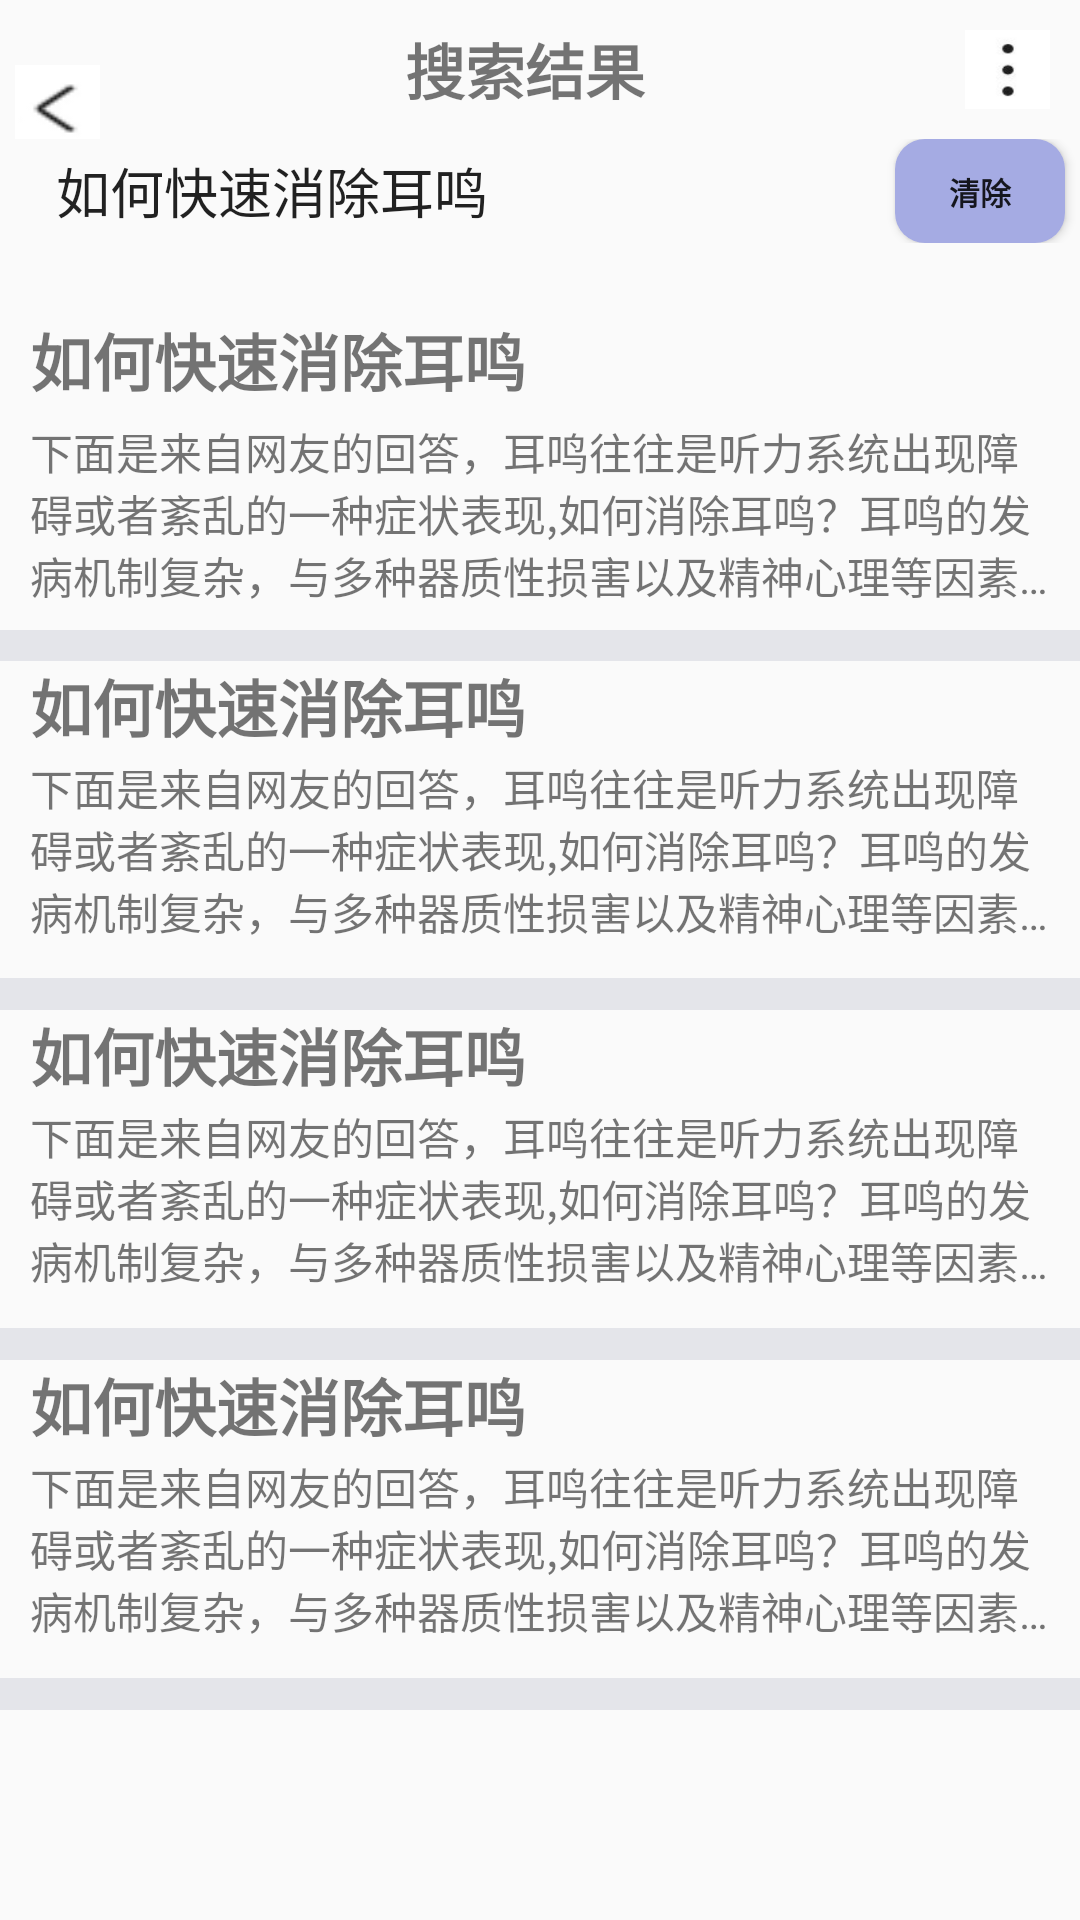

Named icons in this screenshot (1080w x 1920h) and their centers, [x,y]:
menu: [1008,70]
